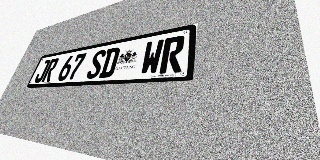6: (56, 55, 76, 81)
7: (66, 53, 87, 80)
D: (98, 47, 121, 78)
J: (33, 59, 51, 83)
R: (159, 35, 185, 74), (41, 58, 59, 82)
S: (85, 49, 107, 79)
W: (139, 39, 164, 75)
